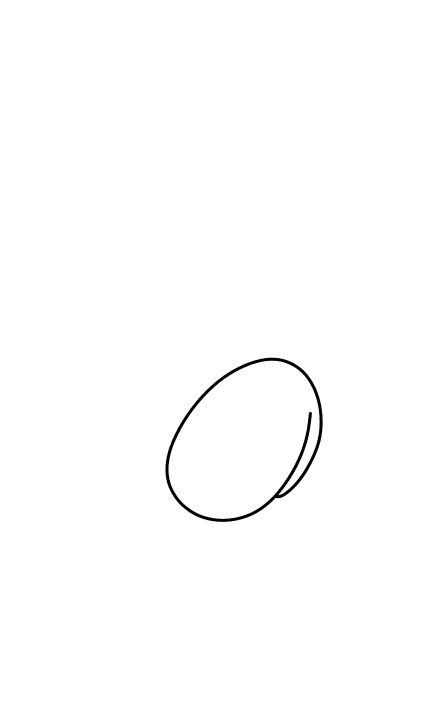Circle: (162, 354, 326, 526)
